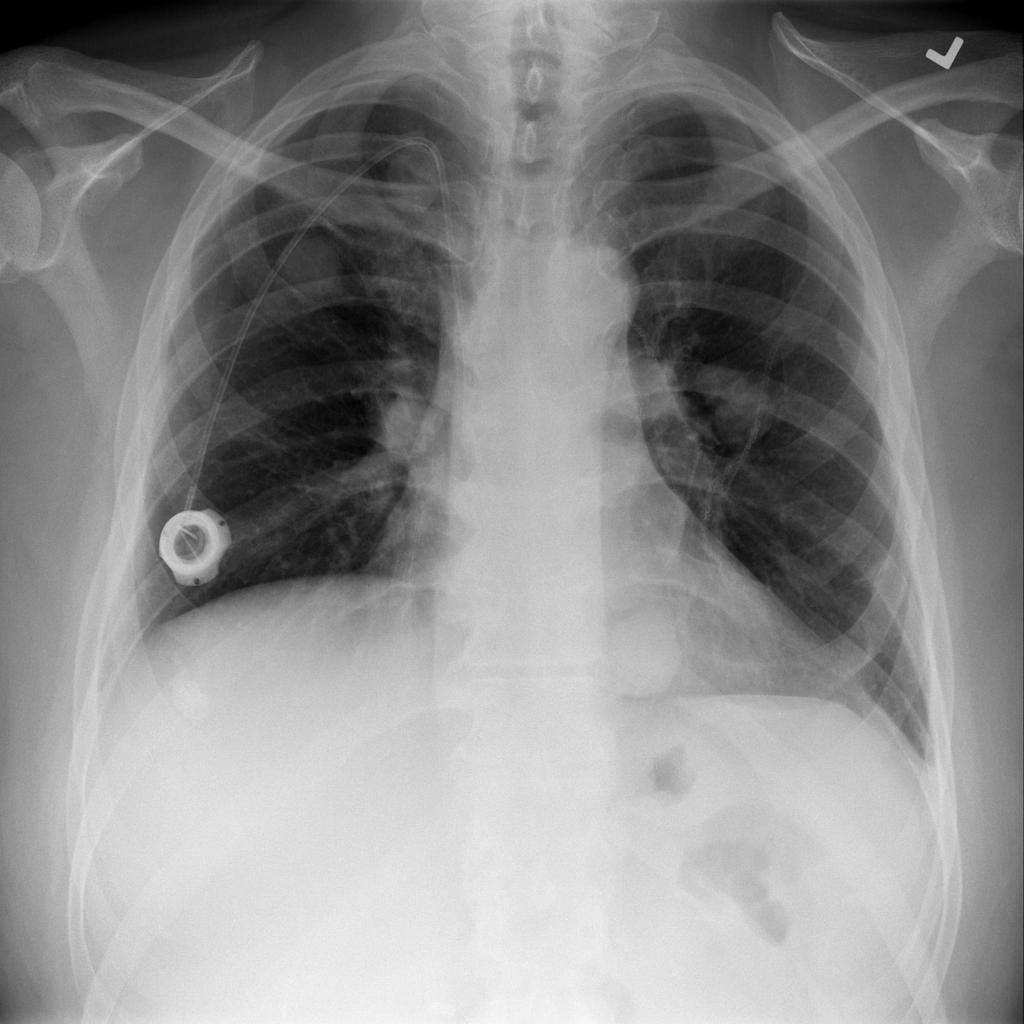nodule: (252, 213, 363, 326), (686, 349, 798, 459), (597, 588, 699, 706), (366, 384, 445, 467), (377, 132, 449, 220)
